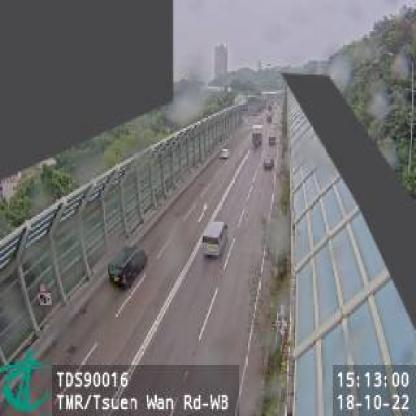Car: (108, 244, 150, 289), (202, 219, 228, 259), (220, 145, 232, 160), (268, 134, 278, 146), (263, 158, 272, 170)
Truck: (252, 123, 263, 149)
